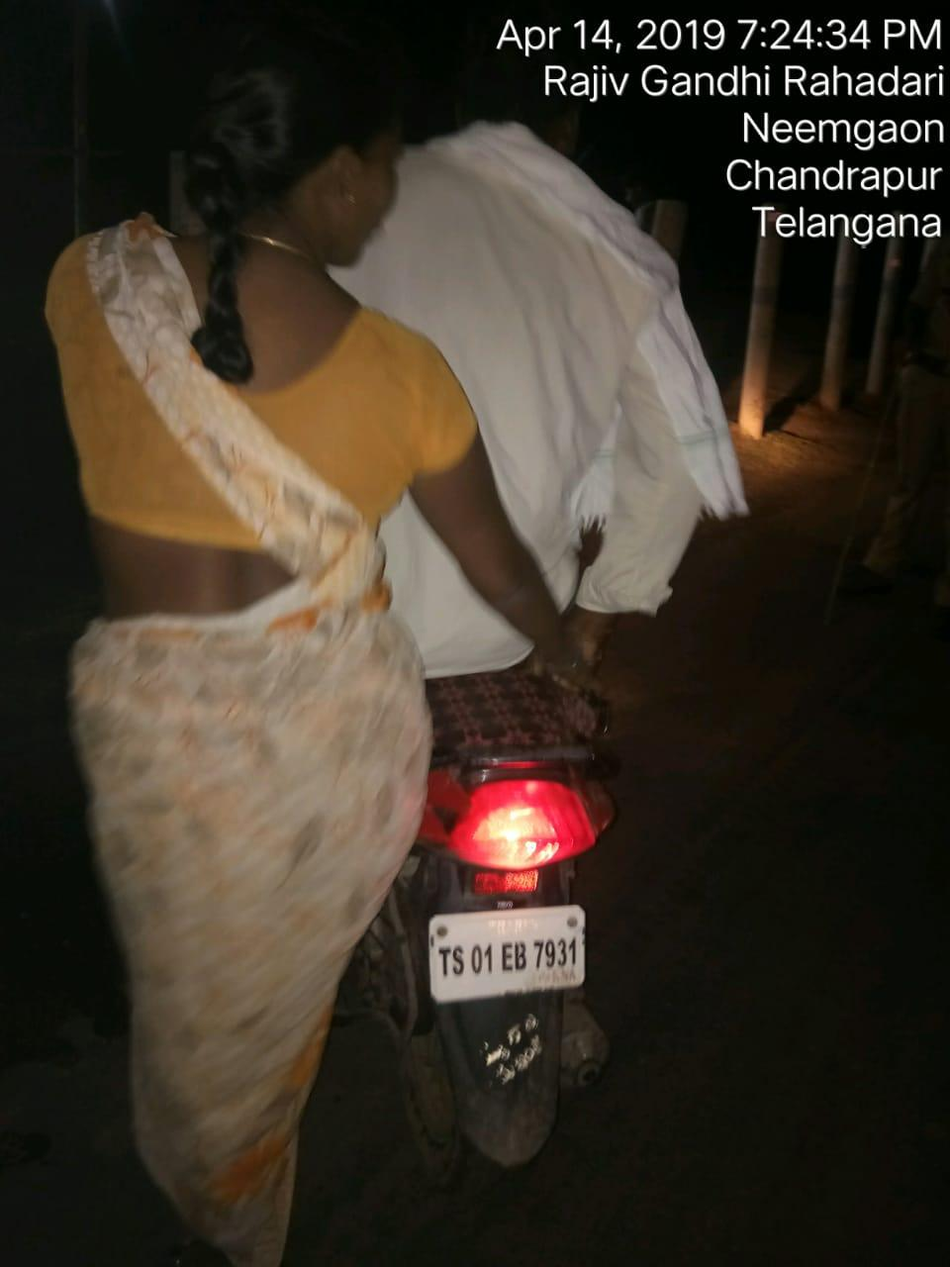plate: (382, 889, 612, 1015)
